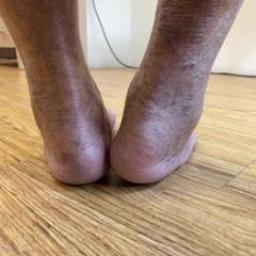Back View -Both Feet-: (2, 20, 240, 207)
